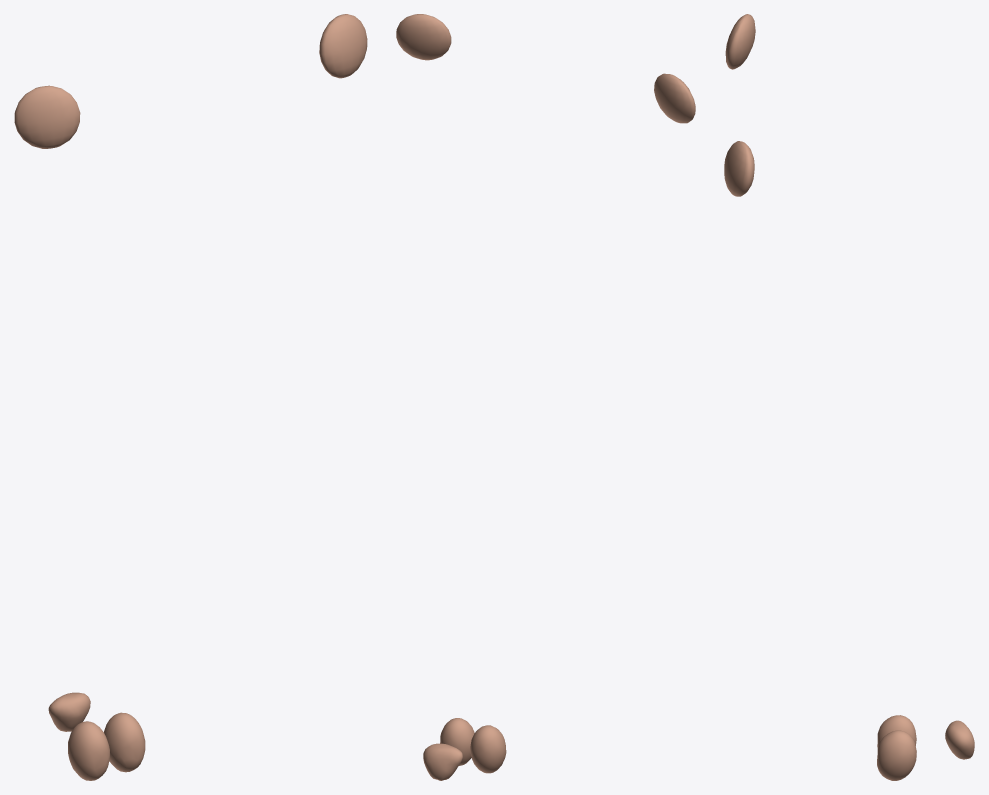
Rendered from pediatric_adolescent_male.reproductive.LOD0.glb.
3 renders of one model, left to right at view 1: azimuth 30°, elevation 25°; view 2: azimuth 150°, elevation 25°; view 3: azimuth 270°, elevation 25°, orthographic. The views are drawn at different scales.
Visible parts, largest first — view 1: PEDIATRIC.ADOLESCENT.MALE.REPRODUCTIVE.BREAST_ADIPOSE_TISSUE (×2), PEDIATRIC.ADOLESCENT.MALE.REPRODUCTIVE.TESTIS.R, PEDIATRIC.ADOLESCENT.MALE.REPRODUCTIVE.TESTIS.L, PEDIATRIC.ADOLESCENT.MALE.REPRODUCTIVE.PROSTATE; view 2: PEDIATRIC.ADOLESCENT.MALE.REPRODUCTIVE.BREAST_ADIPOSE_TISSUE (×2), PEDIATRIC.ADOLESCENT.MALE.REPRODUCTIVE.TESTIS.R, PEDIATRIC.ADOLESCENT.MALE.REPRODUCTIVE.PROSTATE, PEDIATRIC.ADOLESCENT.MALE.REPRODUCTIVE.TESTIS.L; view 3: PEDIATRIC.ADOLESCENT.MALE.REPRODUCTIVE.BREAST_ADIPOSE_TISSUE (×2), PEDIATRIC.ADOLESCENT.MALE.REPRODUCTIVE.TESTIS.L, PEDIATRIC.ADOLESCENT.MALE.REPRODUCTIVE.PROSTATE, PEDIATRIC.ADOLESCENT.MALE.REPRODUCTIVE.TESTIS.R.
Boxes of the visible parts, x1=… form: PEDIATRIC.ADOLESCENT.MALE.REPRODUCTIVE.BREAST_ADIPOSE_TISSUE (×2): x1=14, y1=14, x2=367, y2=148; PEDIATRIC.ADOLESCENT.MALE.REPRODUCTIVE.TESTIS.R: x1=68, y1=721, x2=109, y2=780; PEDIATRIC.ADOLESCENT.MALE.REPRODUCTIVE.TESTIS.L: x1=104, y1=712, x2=145, y2=772; PEDIATRIC.ADOLESCENT.MALE.REPRODUCTIVE.PROSTATE: x1=48, y1=692, x2=90, y2=731; PEDIATRIC.ADOLESCENT.MALE.REPRODUCTIVE.BREAST_ADIPOSE_TISSUE (×2): x1=396, y1=14, x2=695, y2=123; PEDIATRIC.ADOLESCENT.MALE.REPRODUCTIVE.TESTIS.R: x1=470, y1=725, x2=506, y2=773; PEDIATRIC.ADOLESCENT.MALE.REPRODUCTIVE.PROSTATE: x1=423, y1=743, x2=462, y2=780; PEDIATRIC.ADOLESCENT.MALE.REPRODUCTIVE.TESTIS.L: x1=440, y1=718, x2=474, y2=765; PEDIATRIC.ADOLESCENT.MALE.REPRODUCTIVE.BREAST_ADIPOSE_TISSUE (×2): x1=724, y1=14, x2=755, y2=196; PEDIATRIC.ADOLESCENT.MALE.REPRODUCTIVE.TESTIS.L: x1=877, y1=730, x2=916, y2=780; PEDIATRIC.ADOLESCENT.MALE.REPRODUCTIVE.PROSTATE: x1=945, y1=720, x2=974, y2=759; PEDIATRIC.ADOLESCENT.MALE.REPRODUCTIVE.TESTIS.R: x1=877, y1=715, x2=916, y2=747.
Size of the model in its own units: 0.2102 by 0.451 by 0.1479.
